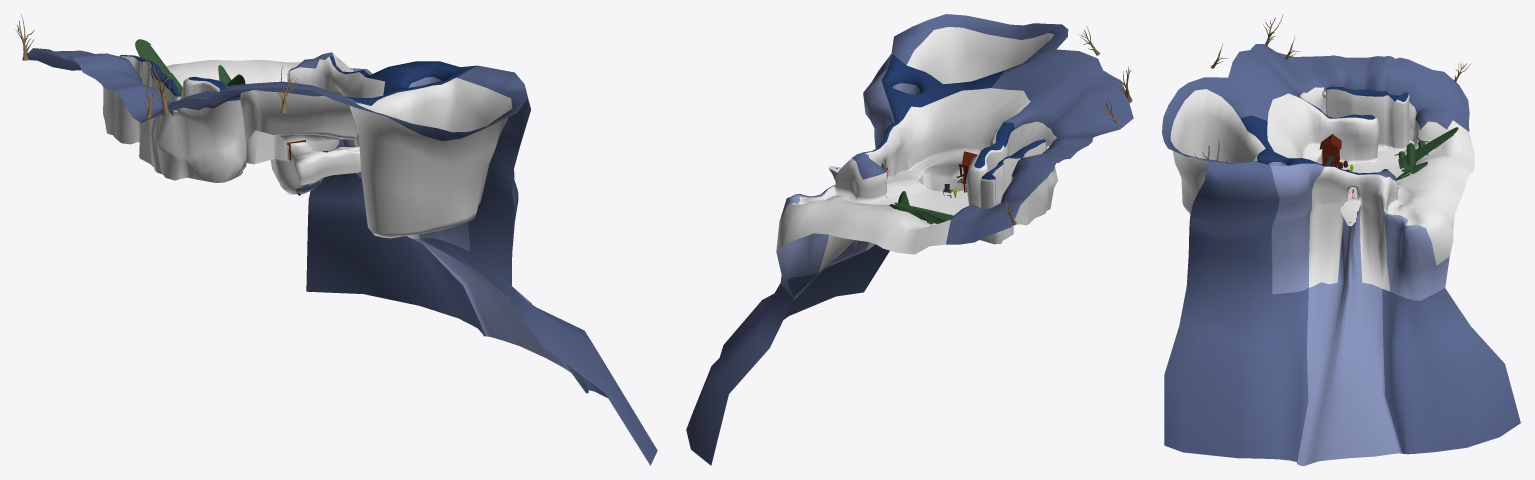
Rendered from Scene Whitebox2.fbx.
3 renders of one model, left to right at view 1: azimuth 30°, elevation 25°; view 2: azimuth 150°, elevation 25°; view 3: azimuth 270°, elevation 25°, orthographic. The views are drawn at different scales.
Visible parts, largest first — view 1: Terrain, Body; view 2: Terrain, Body; view 3: Terrain, Body, Shed.
Part boxes in pixels (x1,y1,x2,y2): Terrain: (22,48,657,465); Body: (135,39,239,98); Terrain: (686,14,1133,465); Body: (891,191,953,223); Terrain: (1162,44,1520,465); Body: (1396,127,1458,179); Shed: (1319,134,1341,167).
Size of the model in its own units: 73.41 by 69.33 by 73.91.
